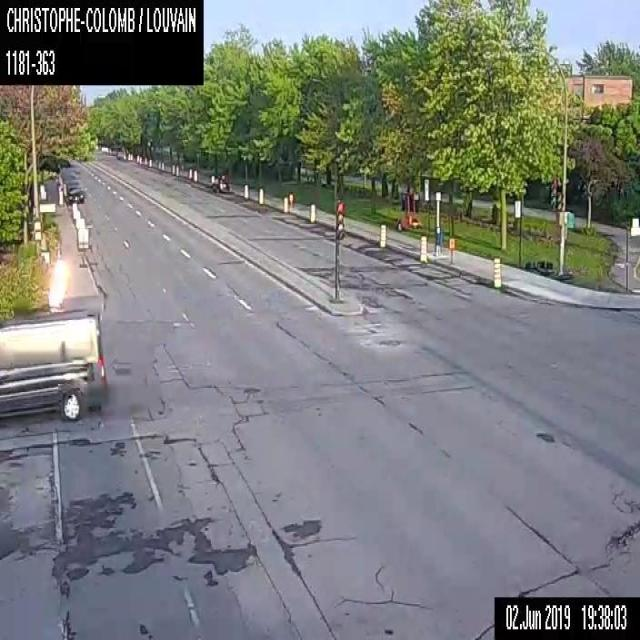construction: (48, 256, 65, 311), (398, 190, 419, 226), (492, 256, 501, 287), (419, 235, 426, 260), (448, 237, 454, 264), (378, 224, 385, 247), (308, 202, 315, 222), (256, 186, 263, 202), (282, 195, 288, 212), (243, 182, 248, 198), (193, 168, 197, 182), (187, 168, 192, 178), (210, 175, 215, 184), (175, 164, 178, 175), (171, 164, 174, 174), (157, 159, 160, 169), (148, 158, 151, 166), (161, 160, 163, 171)
vehicle: (0, 306, 105, 420), (66, 188, 84, 201), (211, 179, 228, 192)
